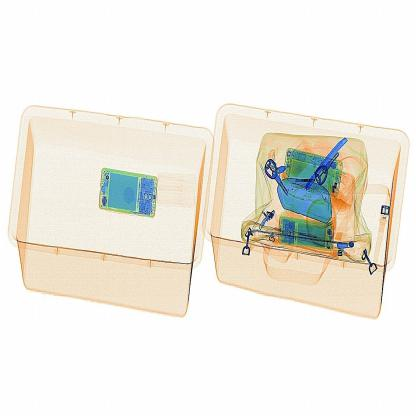pliers: (297, 124, 351, 192)
